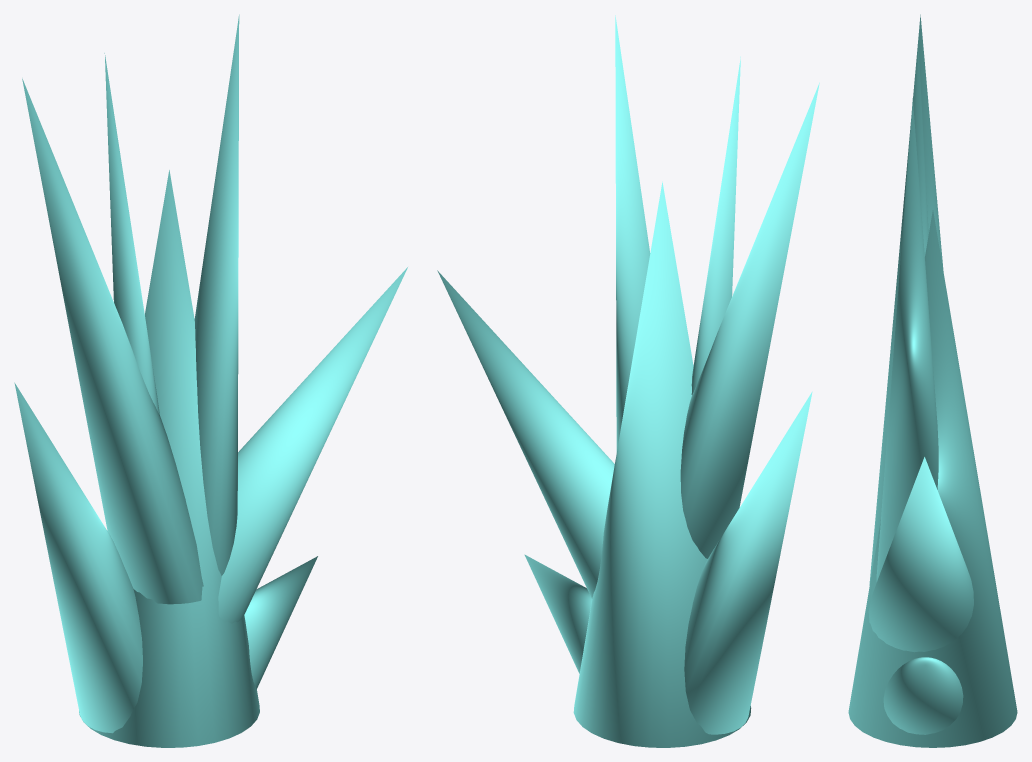
File: Estacas 2.fbx
3 renders of one model, left to right at view 1: azimuth 30°, elevation 25°; view 2: azimuth 150°, elevation 25°; view 3: azimuth 270°, elevation 25°, orthographic. The views are drawn at different scales.
Parts seen in each view (by area): view 1: Cone.006; view 2: Cone.006; view 3: Cone.006.
Part boxes in pixels (box(x1,y1,x2,y2)): Cone.006: box(14, 14, 407, 747); Cone.006: box(437, 15, 819, 747); Cone.006: box(848, 14, 1017, 747).
Size of the model in its own units: 494 by 837 by 200.
